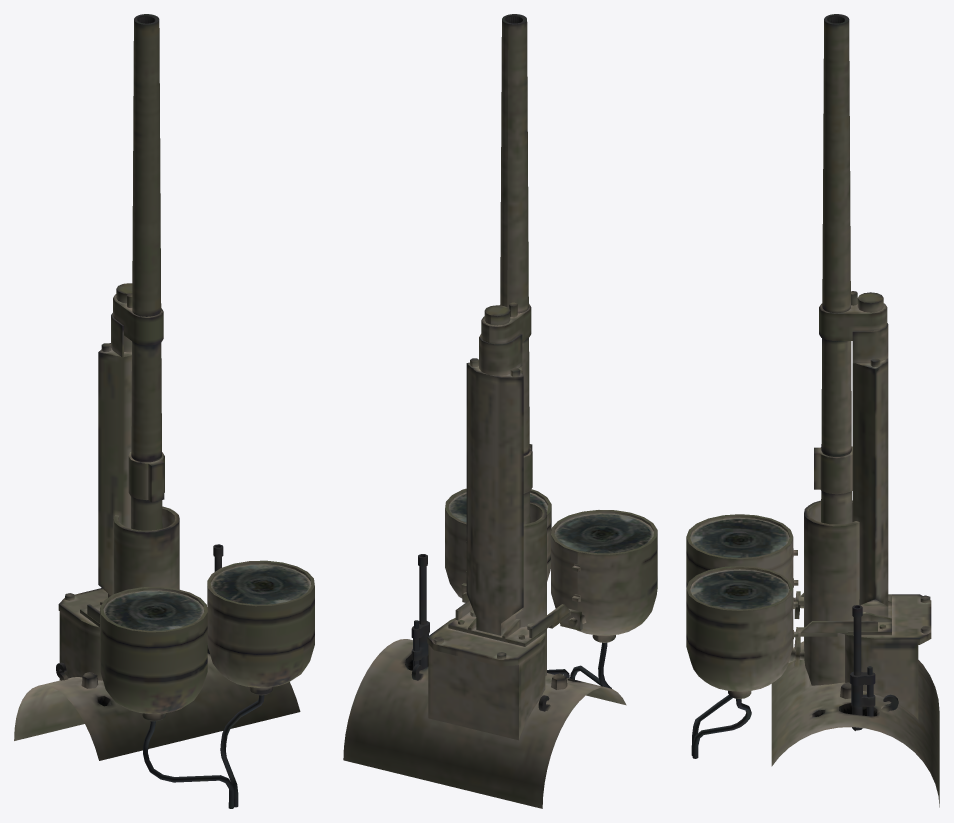
File: Gun_01.glb
The picture shows the model from 3 angles, left to right: view 1: azimuth 30°, elevation 25°; view 2: azimuth 150°, elevation 25°; view 3: azimuth 270°, elevation 25°; orthographic projection.
Visible parts, largest first — view 1: set_0_group_0; view 2: set_0_group_0; view 3: set_0_group_0.
Part boxes in pixels (x1,y1,x2,y2): set_0_group_0: [14, 14, 314, 808]; set_0_group_0: [343, 14, 657, 808]; set_0_group_0: [686, 14, 939, 807].
Size of the model in its own units: 0.5118 by 1.73 by 0.5422.
Materials: 1 (1 with a texture image).
